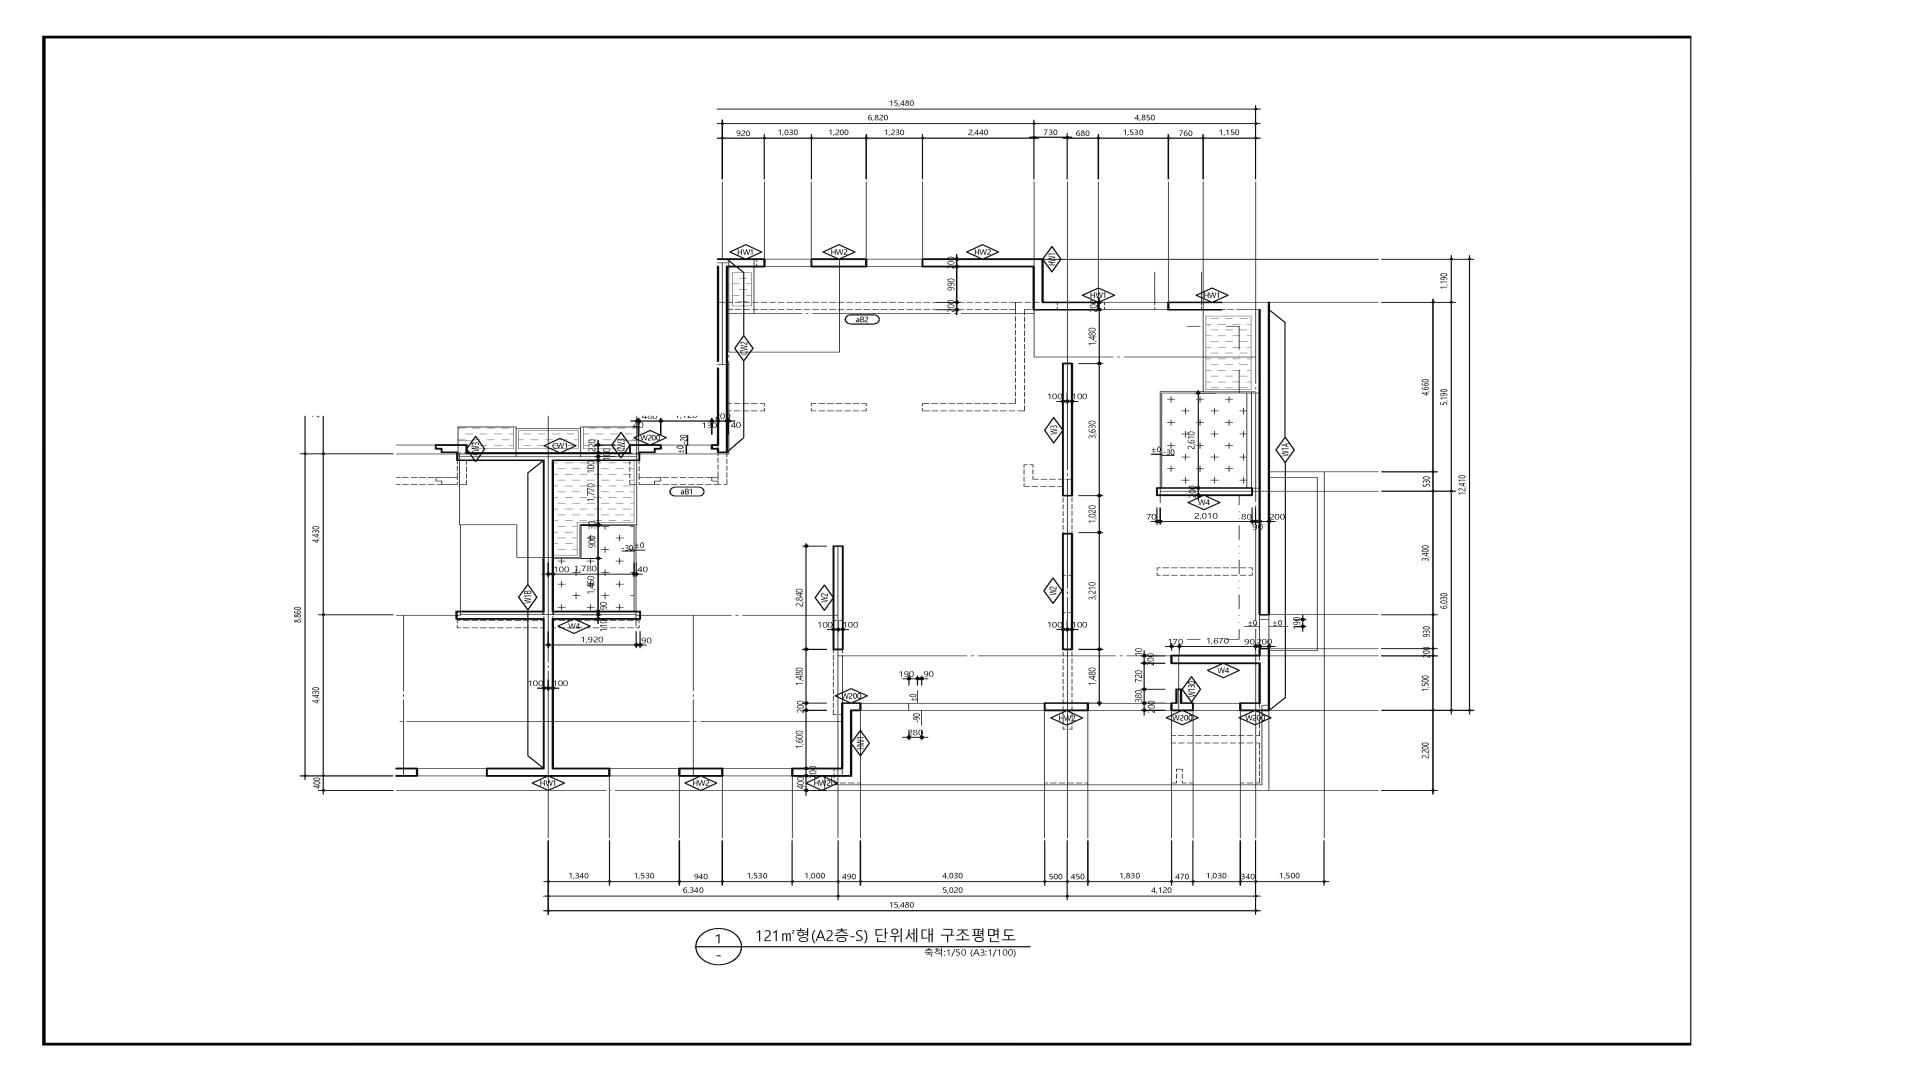wall: (1258, 310, 1270, 616), (832, 785, 1269, 791), (716, 268, 728, 454), (542, 462, 554, 611), (542, 620, 554, 767), (1062, 363, 1073, 496), (1062, 533, 1073, 650), (832, 545, 844, 650), (922, 258, 1044, 268), (1170, 654, 1270, 665), (1156, 487, 1253, 496), (1167, 302, 1270, 310), (554, 611, 641, 620), (455, 611, 542, 620), (468, 452, 543, 462), (554, 452, 629, 462), (1033, 302, 1100, 311), (841, 711, 852, 767), (1262, 711, 1270, 785), (791, 767, 852, 777), (487, 767, 543, 777), (554, 767, 611, 777), (811, 258, 868, 268), (1258, 665, 1270, 703), (1033, 268, 1044, 302), (679, 767, 723, 777), (1044, 703, 1089, 711), (728, 258, 765, 268), (1240, 703, 1270, 711), (640, 444, 662, 454), (396, 767, 418, 777), (456, 444, 468, 462), (629, 444, 641, 462), (435, 444, 456, 454), (1171, 703, 1193, 711), (841, 703, 861, 711), (1175, 688, 1183, 703), (824, 777, 832, 791), (542, 611, 554, 620), (716, 258, 728, 268), (543, 452, 554, 462), (543, 767, 554, 777), (1258, 647, 1270, 654), (711, 444, 717, 450)
